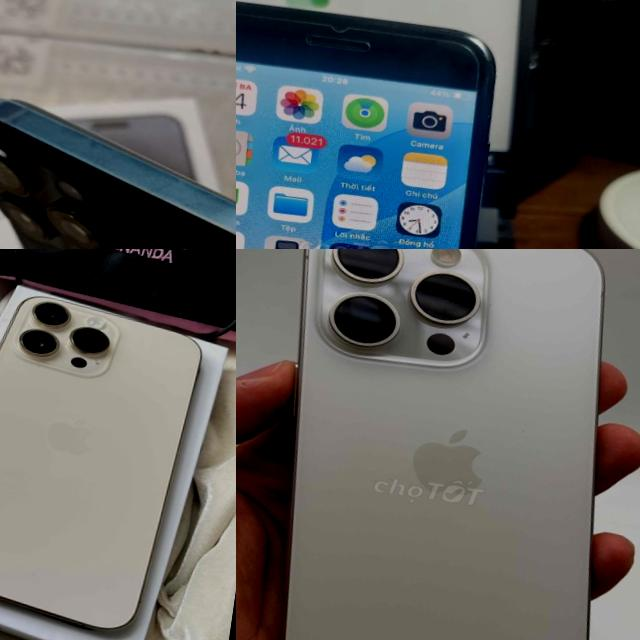scratch: (236, 0, 512, 249)
